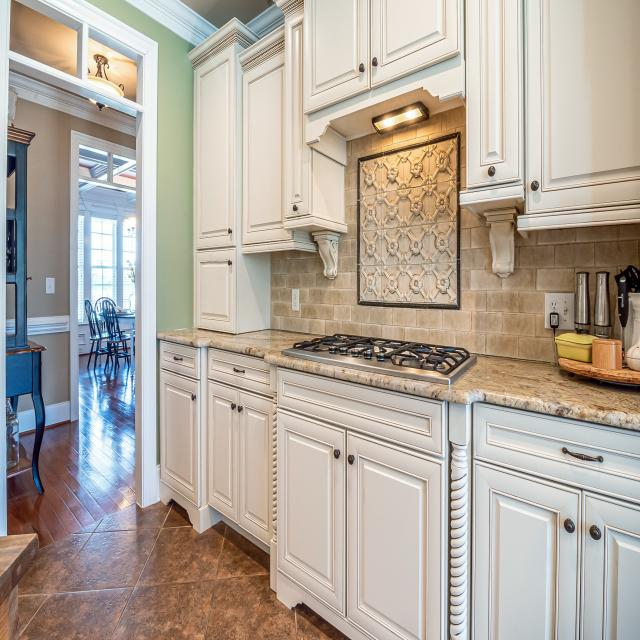Appliance_Stove: (282, 334, 471, 385)
Cabinet_Raised_Panel: (243, 0, 640, 229), (276, 370, 447, 640), (470, 404, 640, 640), (193, 44, 240, 335), (206, 350, 271, 554), (160, 341, 202, 501)
Countertop_Marble: (160, 330, 640, 431)
